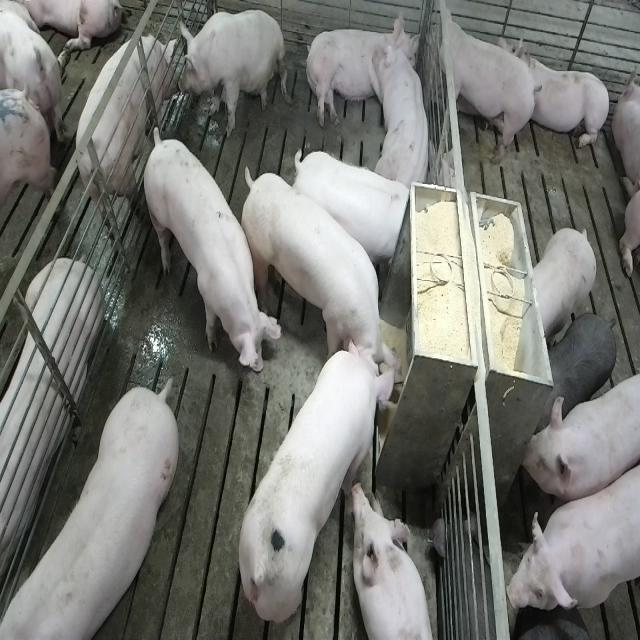Feeding: (236, 338, 400, 624), (235, 158, 399, 383)
Lateral_lying: (303, 10, 420, 129)
Sitting: (178, 8, 285, 138)
Standing: (0, 383, 176, 640), (142, 126, 281, 382), (504, 448, 638, 618), (75, 34, 180, 240), (432, 3, 540, 165), (289, 146, 414, 281), (522, 368, 637, 504), (541, 310, 618, 426), (0, 1, 61, 144), (531, 227, 597, 345), (510, 608, 605, 640)
Sternal_lying: (0, 260, 100, 608), (351, 481, 439, 640), (375, 16, 434, 191), (522, 39, 611, 152)
